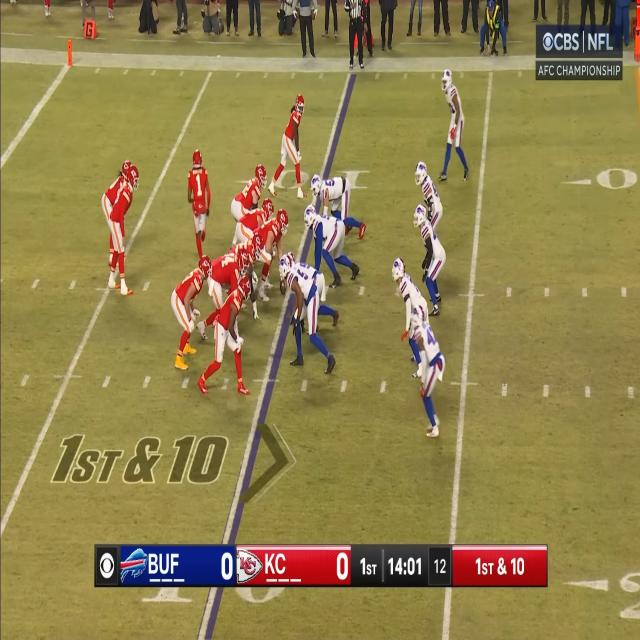Ball: (280, 280, 286, 295)
